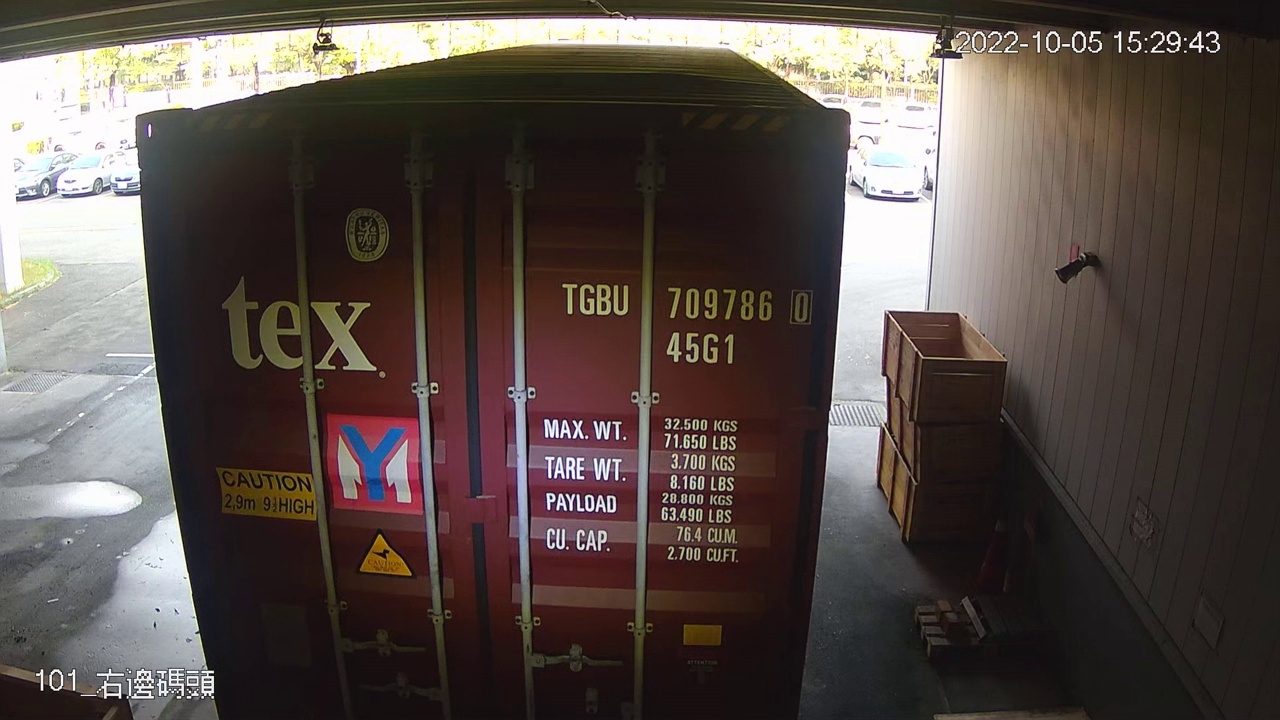container: (549, 274, 821, 371)
